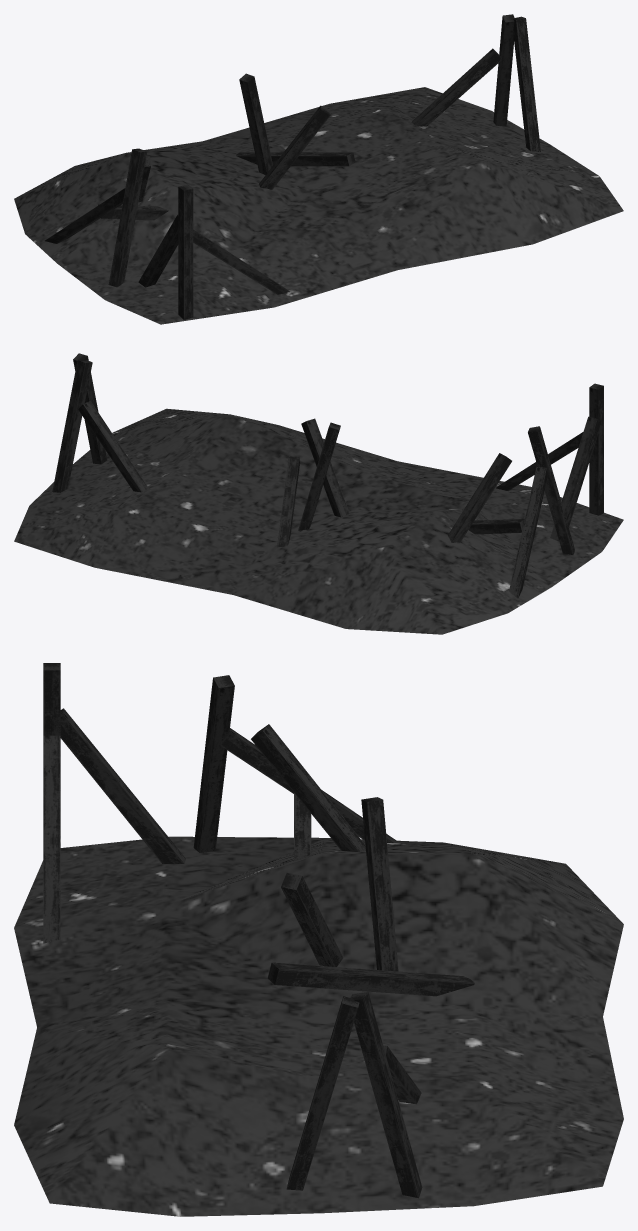
The model's file is MedievalHouse_002_destroyed_001.dae.
3 views of the same model, one above another, from view 1: azimuth 30°, elevation 25°; view 2: azimuth 150°, elevation 25°; view 3: azimuth 270°, elevation 25° (orthographic). The views are drawn at different scales.
Visible parts, largest first — view 1: MedievalHouse_002_destroyed_001; view 2: MedievalHouse_002_destroyed_001; view 3: MedievalHouse_002_destroyed_001.
Boxes of the visible parts, box(x1,y1,x2,y2) form: MedievalHouse_002_destroyed_001: box(14, 14, 623, 324); MedievalHouse_002_destroyed_001: box(14, 353, 623, 634); MedievalHouse_002_destroyed_001: box(14, 663, 623, 1216).
Bounding box in the file's own units: 52.26 × 35.43 × 13.
Materials: 1 (1 with a texture image).
